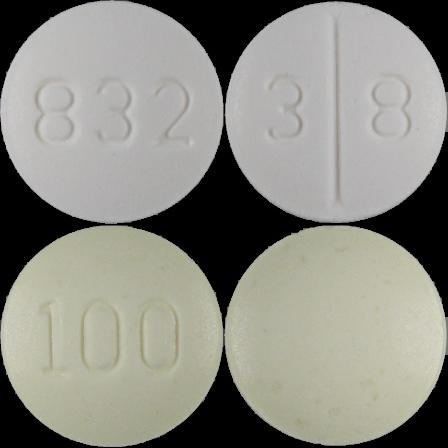43353-978: (0, 0, 224, 224)
